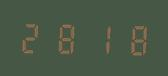eight: (114, 20, 145, 57), (50, 19, 81, 55)
one: (82, 19, 113, 56)
two: (18, 18, 49, 55)
